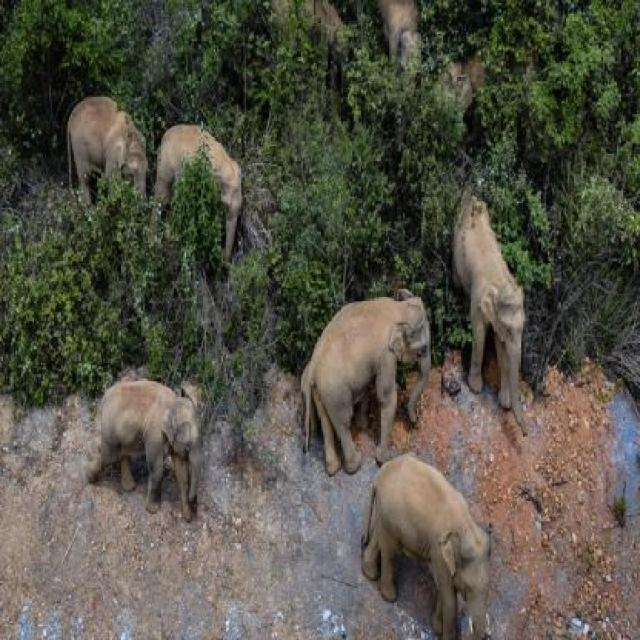elephant: (290, 263, 436, 475), (449, 171, 554, 449), (363, 444, 499, 638), (86, 354, 212, 524), (148, 114, 252, 255), (56, 74, 149, 214), (429, 44, 491, 116), (373, 0, 421, 85)
